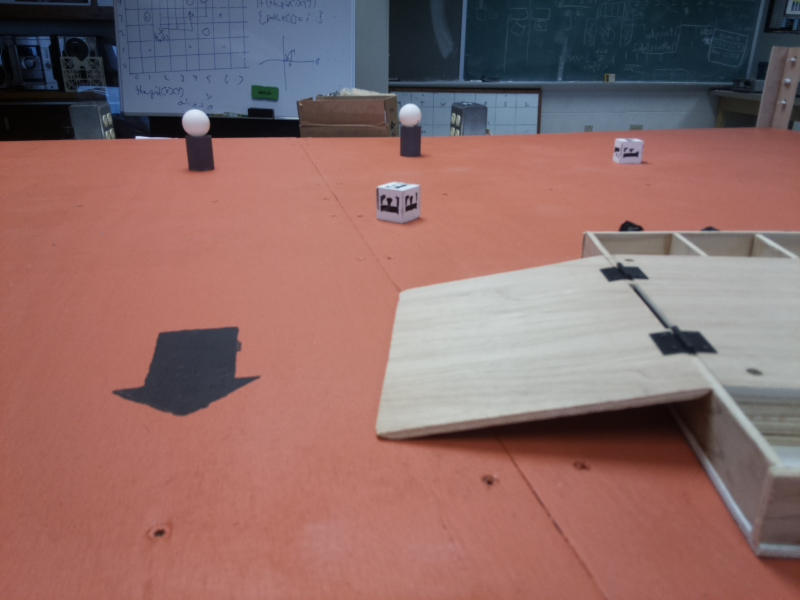blockE: (373, 181, 420, 225)
blockF: (613, 133, 645, 171)
corner: (760, 45, 796, 133)
obstacle: (180, 104, 215, 176), (398, 103, 425, 163)
slope: (373, 254, 704, 456)
start: (123, 323, 256, 420)
